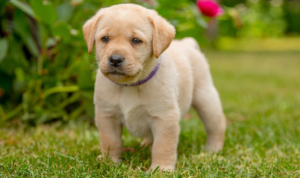dog: (71, 1, 171, 84)
eyes: (127, 31, 150, 47), (91, 30, 112, 47)
